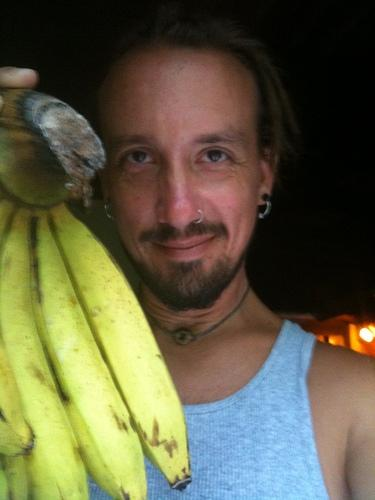banana: (48, 201, 192, 492), (28, 205, 148, 499), (1, 209, 88, 500), (2, 334, 34, 458), (0, 451, 35, 500)
